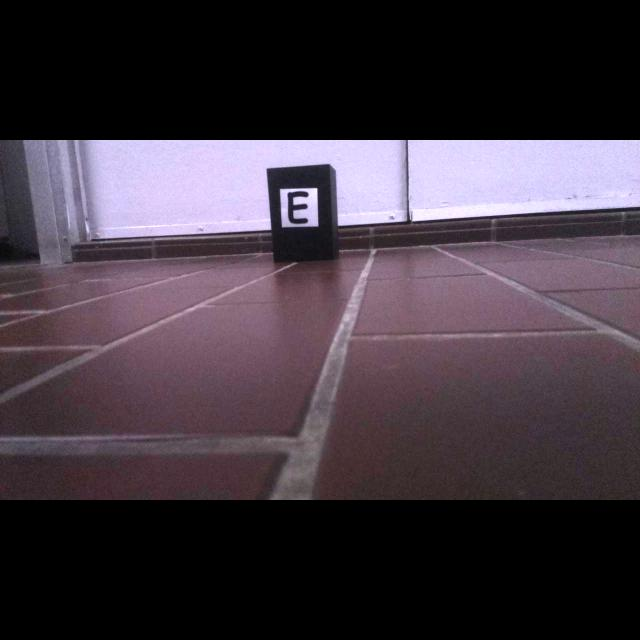E: (288, 191, 309, 224)
